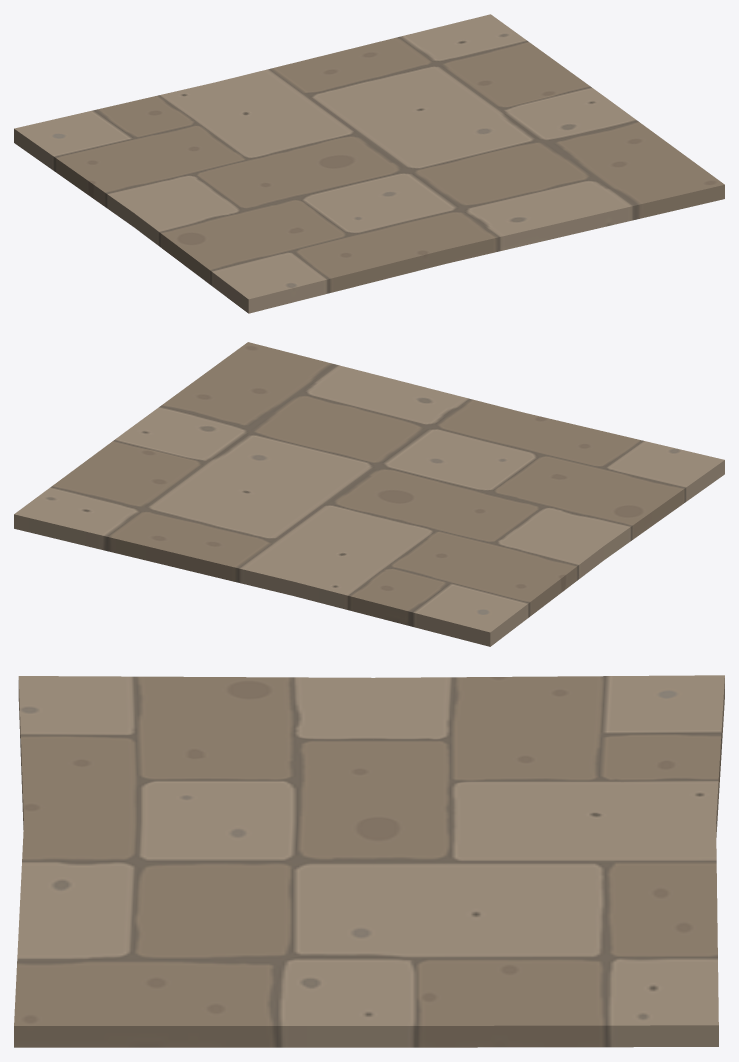
File: building_weapon_ground_lv5.FBX
3 renders of one model, top to bottom at view 1: azimuth 30°, elevation 25°; view 2: azimuth 150°, elevation 25°; view 3: azimuth 270°, elevation 25°, orthographic. The views are drawn at different scales.
Visible parts, largest first — view 1: building_weapon_ground_lv5; view 2: building_weapon_ground_lv5; view 3: building_weapon_ground_lv5.
Boxes of the visible parts, x1=… form: building_weapon_ground_lv5: x1=14, y1=14, x2=724, y2=313; building_weapon_ground_lv5: x1=14, y1=342, x2=724, y2=646; building_weapon_ground_lv5: x1=14, y1=675, x2=724, y2=1047.
Bounding box in the file's own units: 575 × 16.54 × 493.
